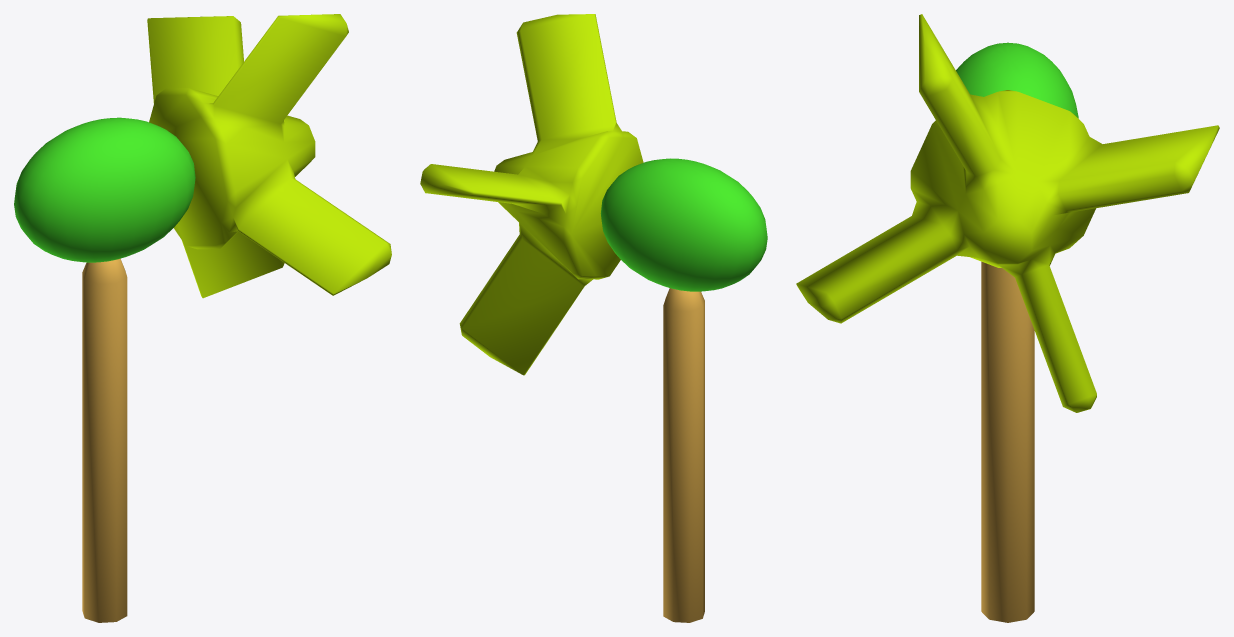
The model's file is Fan.fbx.
The picture shows the model from 3 angles, left to right: view 1: azimuth 30°, elevation 25°; view 2: azimuth 150°, elevation 25°; view 3: azimuth 270°, elevation 25°; orthographic projection. The views are drawn at different scales.
Visible parts, largest first — view 1: Fan, Stand; view 2: Fan, Stand; view 3: Fan, Stand.
Boxes of the visible parts, <box> form: Fan: <box>147,14,391,298</box>; Stand: <box>14,117,195,622</box>; Fan: <box>420,14,643,375</box>; Stand: <box>600,158,767,622</box>; Fan: <box>796,14,1219,412</box>; Stand: <box>956,42,1078,622</box>.
Size of the model in its own units: 365 by 700 by 399.
